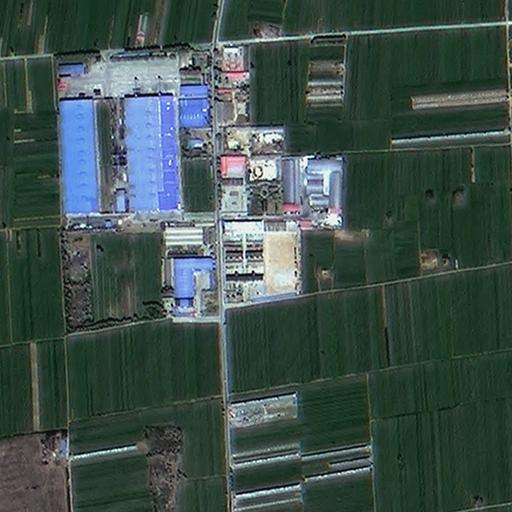school: (218, 226, 300, 308)
